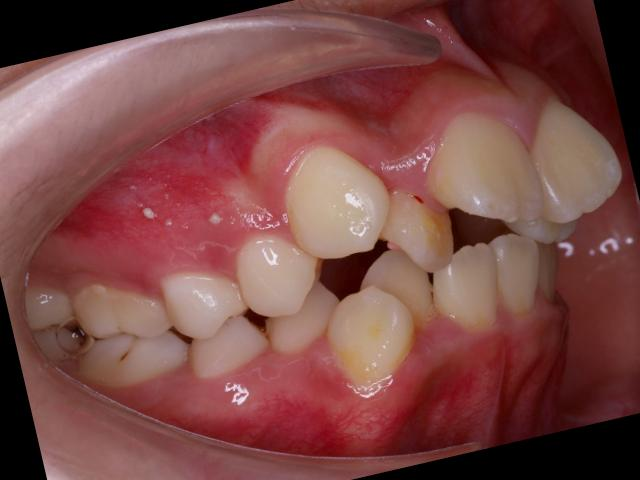canine class II 3/4: (228, 131, 432, 418)
molar class II 1/2: (49, 253, 194, 404)
